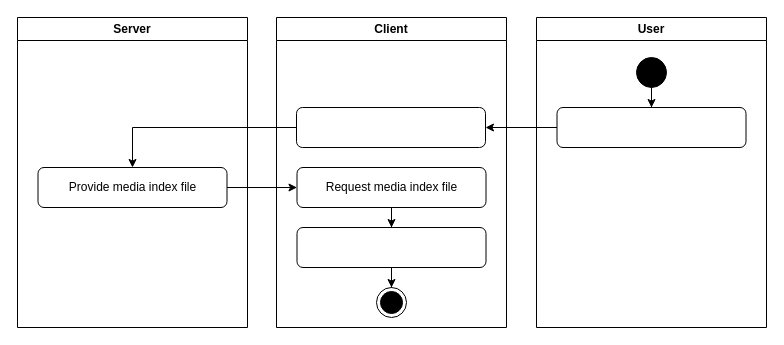
Some shapes in this 784 by 345 pixel diagram are drawn without their labels. The shapes that lost their labels are listed below. From the top down, each one's centre as x and y in pixels, then its label:
At (391,127): "show media list".
At (651,127): "select media".
At (391,247): "Show media UI".
